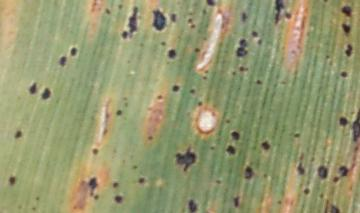tarspot: (120, 5, 140, 40), (174, 145, 197, 173), (272, 1, 292, 25), (150, 8, 168, 32), (234, 37, 250, 58), (351, 107, 360, 143), (186, 197, 200, 213), (39, 86, 53, 101), (316, 164, 328, 181), (224, 143, 238, 157), (340, 4, 353, 19), (242, 165, 255, 180), (338, 164, 351, 179), (295, 161, 307, 177), (87, 175, 99, 191), (58, 54, 69, 69), (185, 17, 198, 29), (231, 194, 242, 208), (340, 22, 352, 34), (327, 202, 340, 213), (28, 81, 38, 95), (344, 43, 353, 58), (240, 10, 249, 25), (13, 128, 24, 140), (337, 116, 349, 127), (166, 48, 177, 60), (259, 140, 271, 151), (229, 129, 240, 141), (68, 45, 78, 58), (113, 193, 123, 206), (135, 175, 146, 186), (7, 174, 17, 186), (170, 11, 178, 25), (91, 192, 101, 203), (238, 64, 250, 73), (302, 185, 312, 195), (110, 180, 120, 190), (330, 174, 341, 183), (339, 70, 349, 79), (256, 36, 264, 47), (208, 143, 217, 152), (171, 84, 181, 92), (103, 6, 111, 16), (201, 68, 211, 76), (254, 78, 263, 86), (146, 134, 154, 143), (214, 179, 223, 187), (318, 190, 325, 200), (250, 30, 260, 37), (292, 132, 302, 139), (91, 148, 101, 155), (276, 198, 283, 208), (193, 46, 201, 54), (115, 109, 123, 117), (195, 100, 204, 107), (187, 88, 196, 95), (159, 40, 168, 47), (224, 117, 231, 126), (131, 164, 140, 171), (32, 194, 41, 201), (205, 1, 215, 7), (155, 94, 163, 101), (116, 3, 123, 10), (201, 7, 207, 15), (325, 54, 332, 60), (200, 75, 208, 80), (231, 70, 236, 77), (322, 1, 329, 3)
